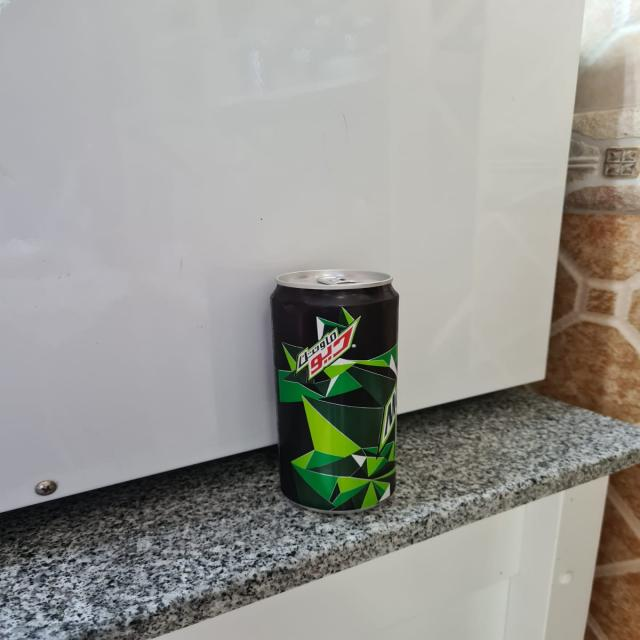non-organic waste: (268, 267, 406, 515)
